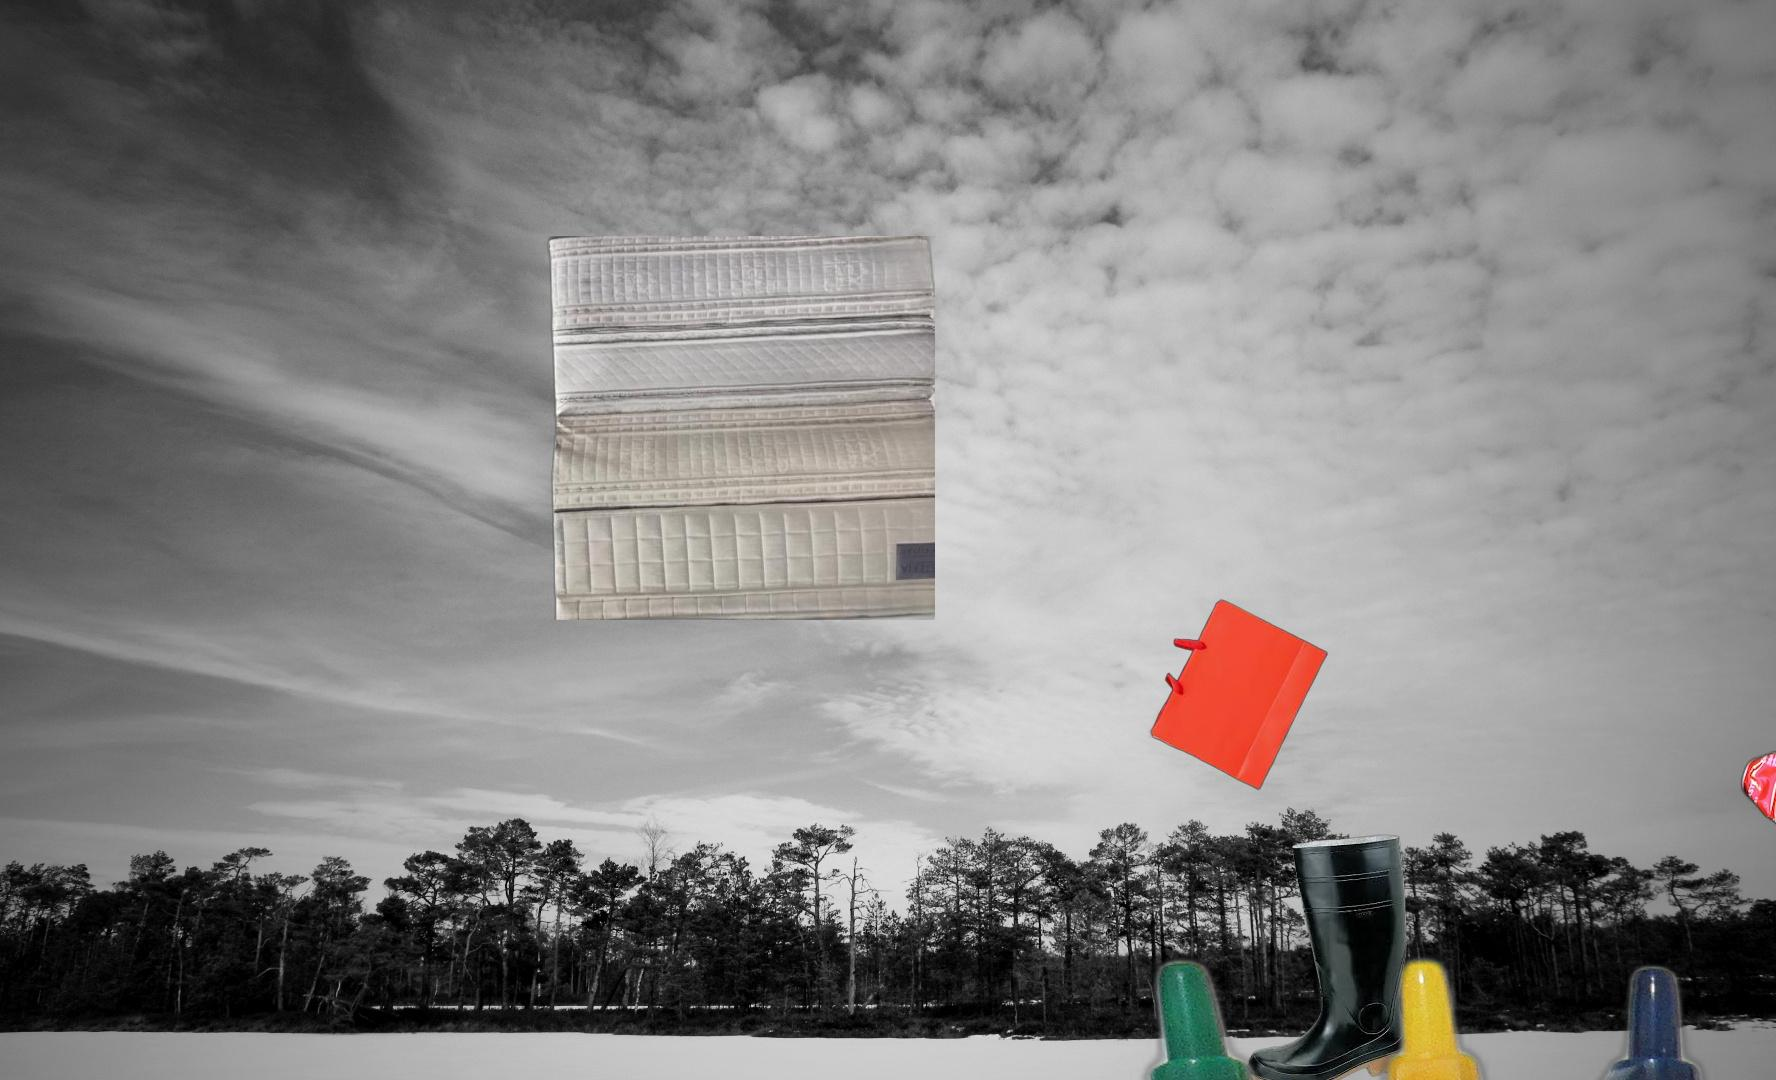biological: (1109, 1069, 1356, 1080)
metal-cans: (1392, 745, 1776, 1080)
paper: (543, 236, 935, 621)
paper-bag: (1146, 598, 1331, 792)
penholder: (1010, 944, 1776, 1080)
shoes: (1243, 833, 1412, 1080)
